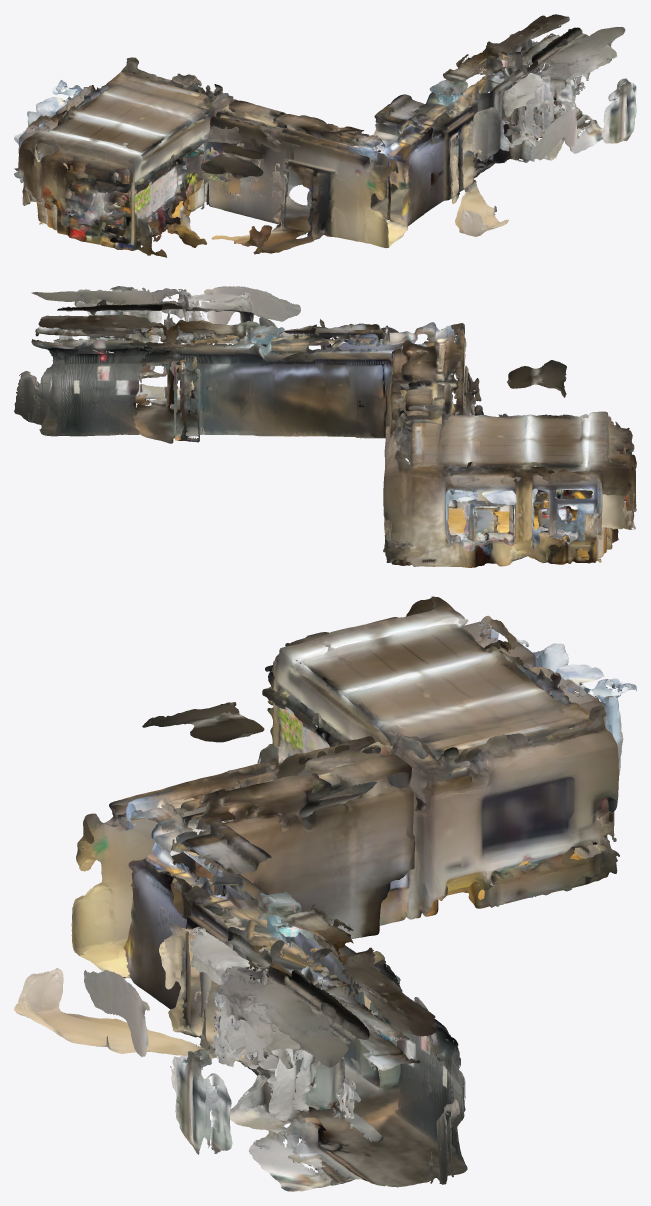
3 views of the same model, one above another, from view 1: azimuth 30°, elevation 25°; view 2: azimuth 150°, elevation 25°; view 3: azimuth 270°, elevation 25° (orthographic). The views are drawn at different scales.
Visible parts, largest first — view 1: mesh; view 2: mesh; view 3: mesh.
Boxes of the visible parts, left/top/right/bottom form: mesh: left=14, top=14, right=636, bottom=257; mesh: left=14, top=286, right=636, bottom=567; mesh: left=14, top=596, right=636, bottom=1191.
Size of the model in its own units: 19.3 by 3.38 by 10.85.
Materials: 1 (1 with a texture image).
